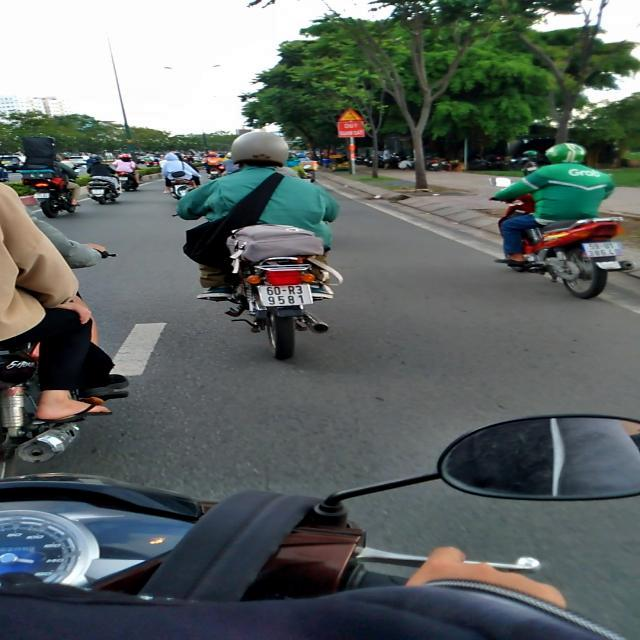Di cham: (337, 106, 364, 122)
